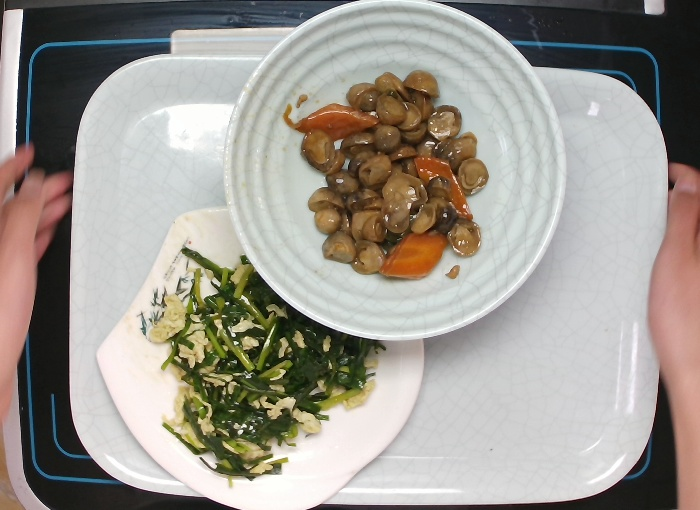JYsf-Da_Tang_Wan: (222, 1, 564, 346)
JYsf-Mian_Pan: (90, 202, 430, 510)
